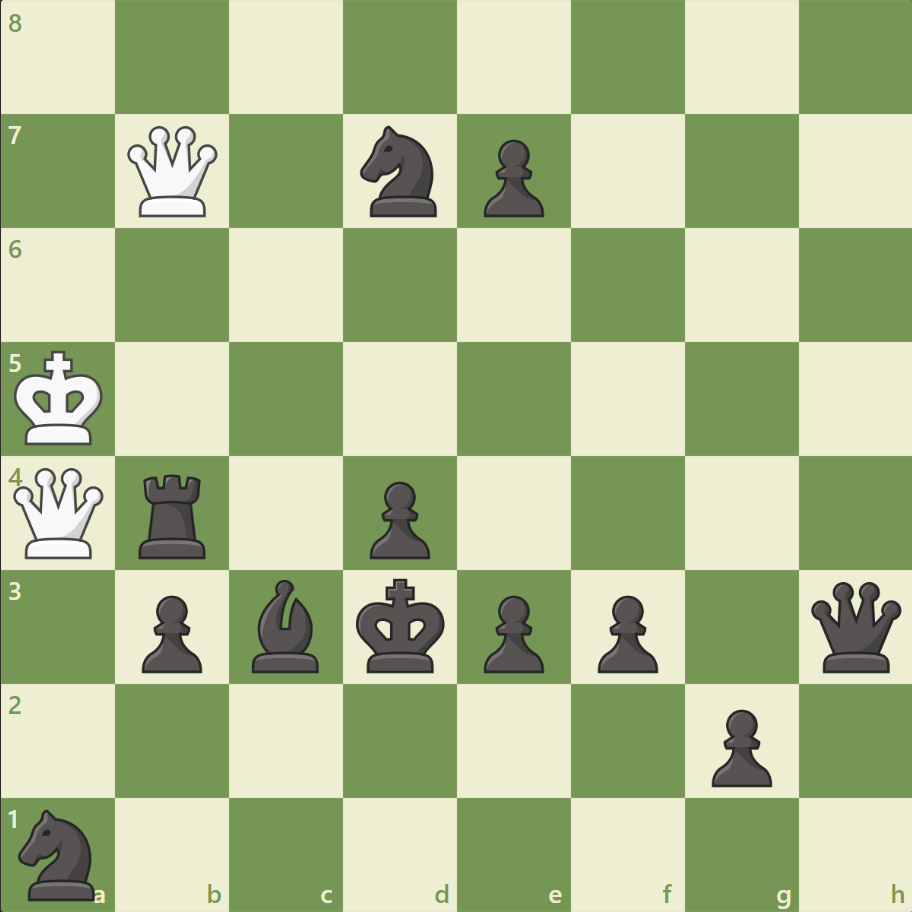K: (11, 344, 111, 452)
Q: (124, 122, 223, 222), (10, 463, 109, 562)
b: (244, 574, 328, 676)
k: (351, 571, 451, 679)
n: (351, 121, 449, 223), (11, 802, 108, 904)
p: (474, 132, 549, 223), (133, 586, 208, 677), (474, 586, 549, 677), (701, 700, 776, 791), (361, 473, 435, 564), (588, 586, 662, 677)
q: (805, 576, 904, 676)
r: (133, 466, 215, 563)
